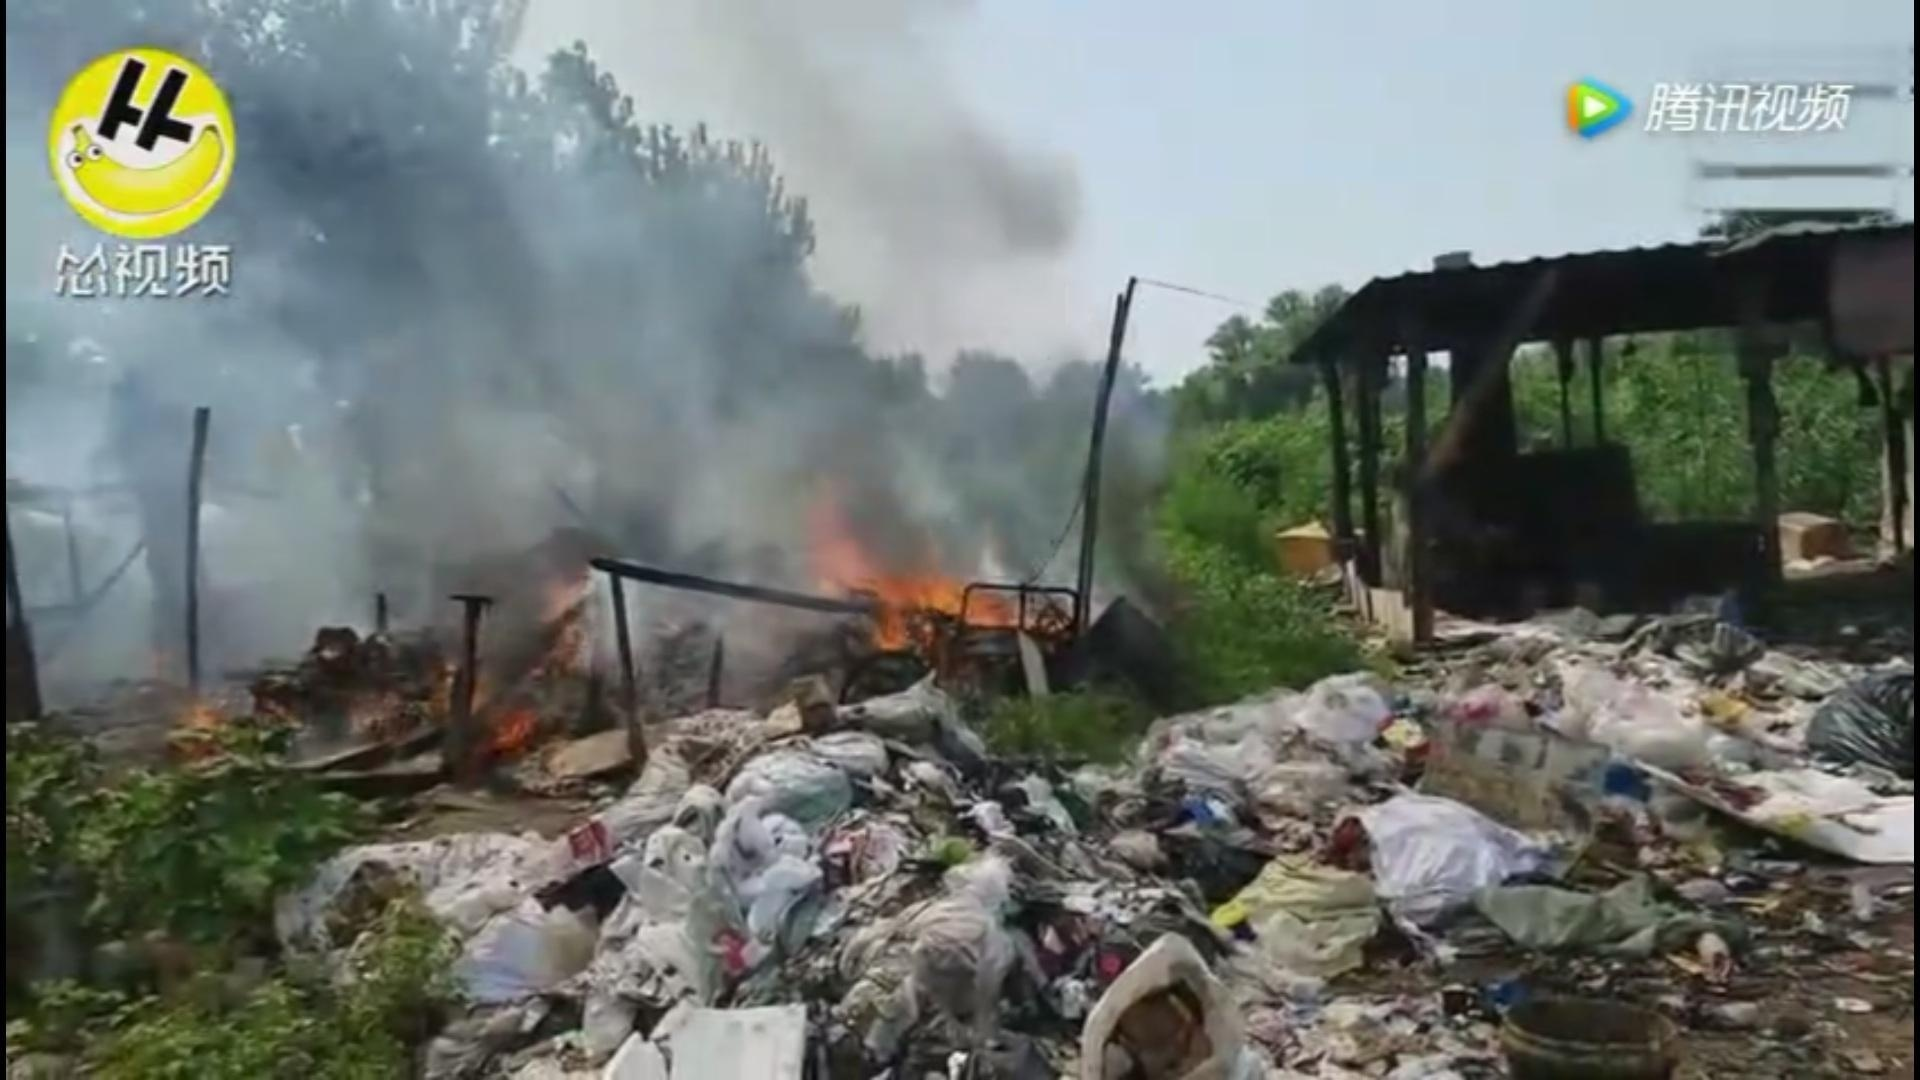fire: (839, 560, 1030, 640)
